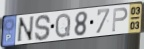7: (96, 8, 111, 36)
8: (74, 10, 89, 37)
N: (15, 15, 35, 44)
P: (111, 7, 129, 34)
Q: (54, 12, 72, 39)
S: (34, 14, 52, 42)
